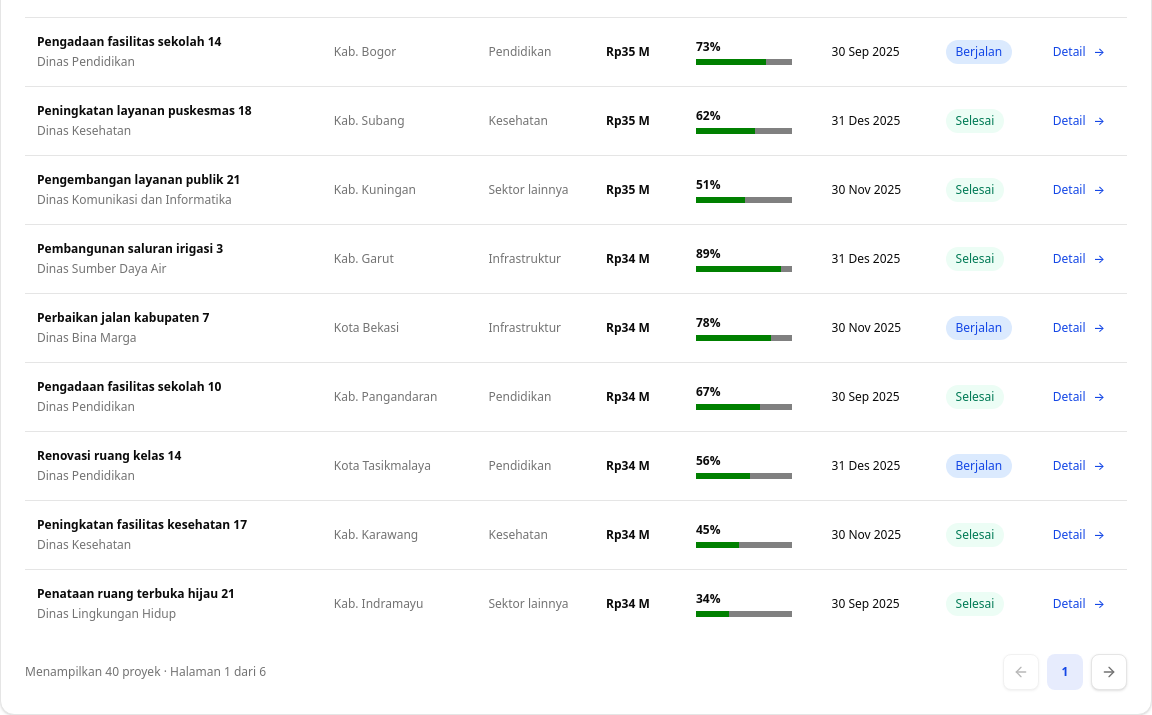
it: ProyekData › loads the next 40 projects when the next-page button is selected
The image size is (1152, 715).
(page scrolled)
Click the button named "Halaman berikutnya" at (1109, 672), box [1091,654,1127,690]
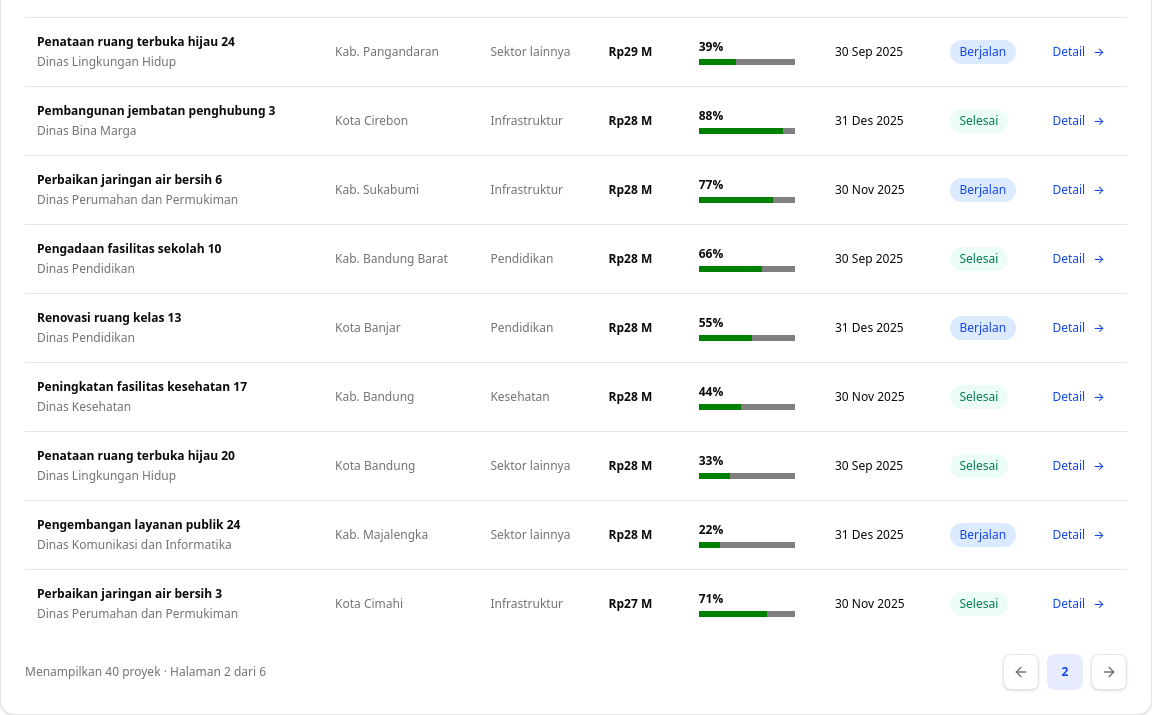
Check: the text "Menampilkan 40 proyek · Halaman 2 dari 6" is shown, box [25,664,266,680]
